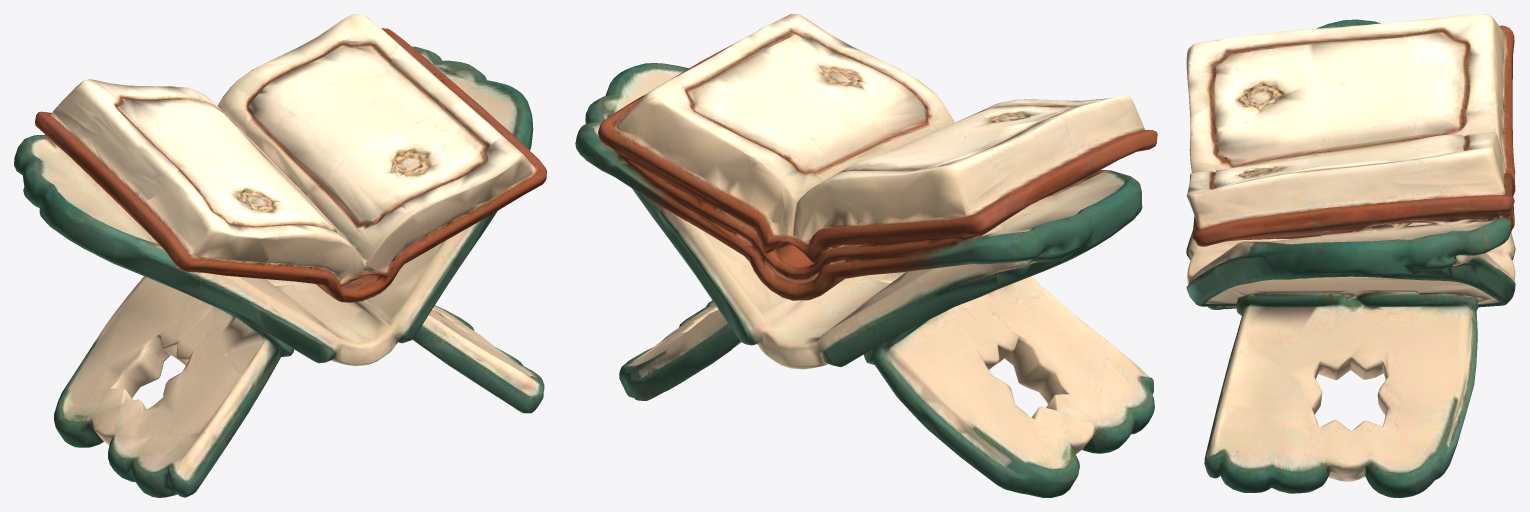
The model's file is rehal-quran-variant-08-open-scalloped-rehal.glb.
The picture shows the model from 3 angles, left to right: view 1: azimuth 30°, elevation 25°; view 2: azimuth 150°, elevation 25°; view 3: azimuth 270°, elevation 25°; orthographic projection. The views are drawn at different scales.
Visible parts, largest first — view 1: mesh_node; view 2: mesh_node; view 3: mesh_node.
Part boxes in pixels (x1=…): mesh_node: x1=14, y1=14, x2=546, y2=497; mesh_node: x1=575, y1=14, x2=1157, y2=497; mesh_node: x1=1186, y1=14, x2=1515, y2=497.
Size of the model in its own units: 1.9 by 1.22 by 1.14.
Materials: 1 (1 with a texture image).
